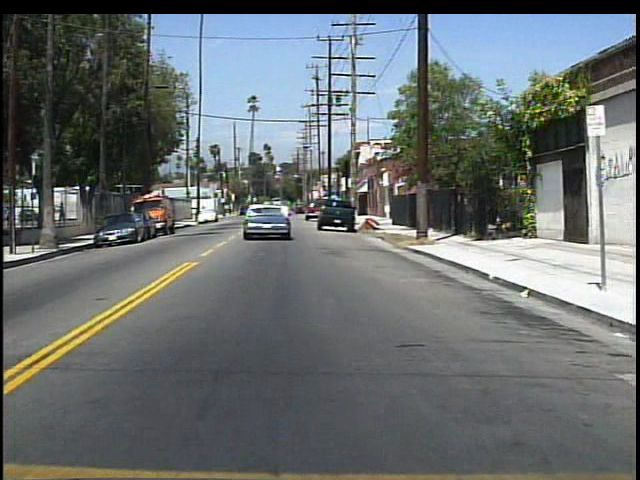person: (58, 199, 71, 228)
